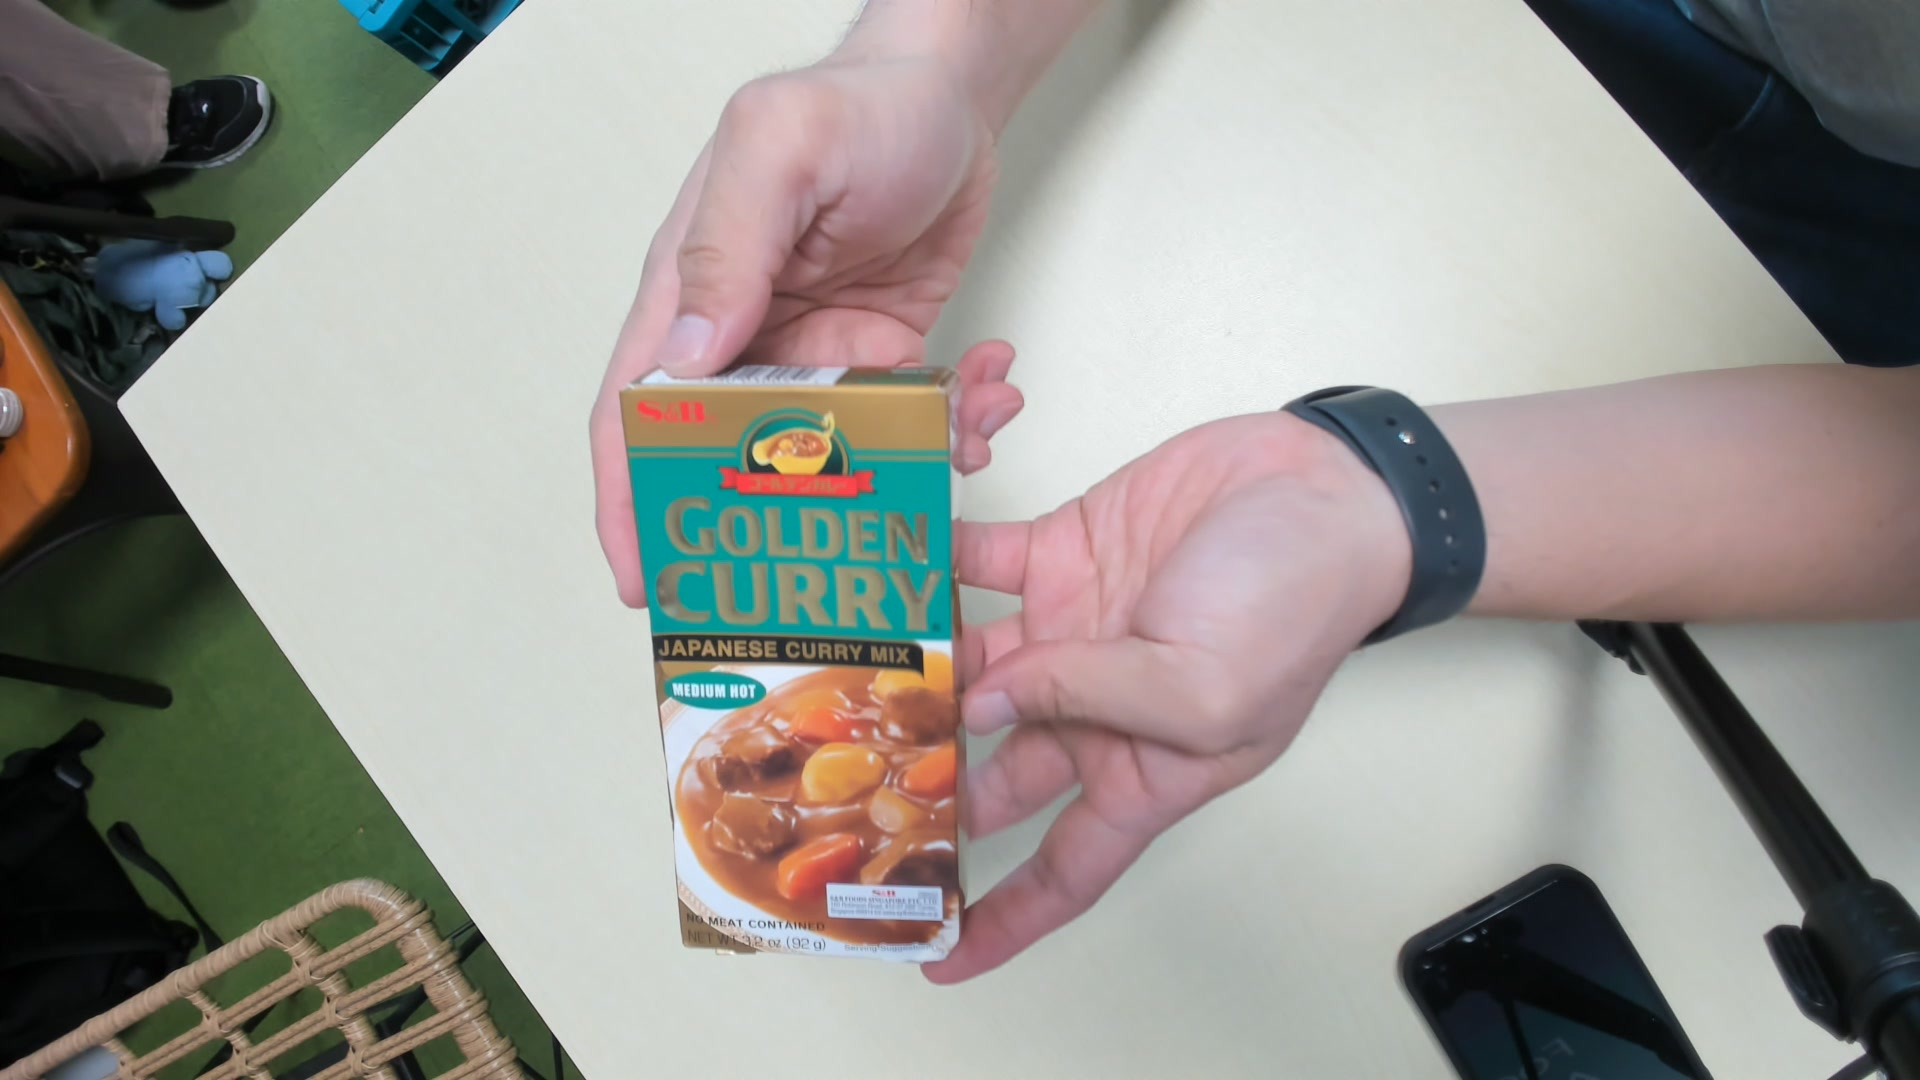OtherSauceDressing_0-99g_NonHalal_NonHealthy: (612, 357, 971, 969)
